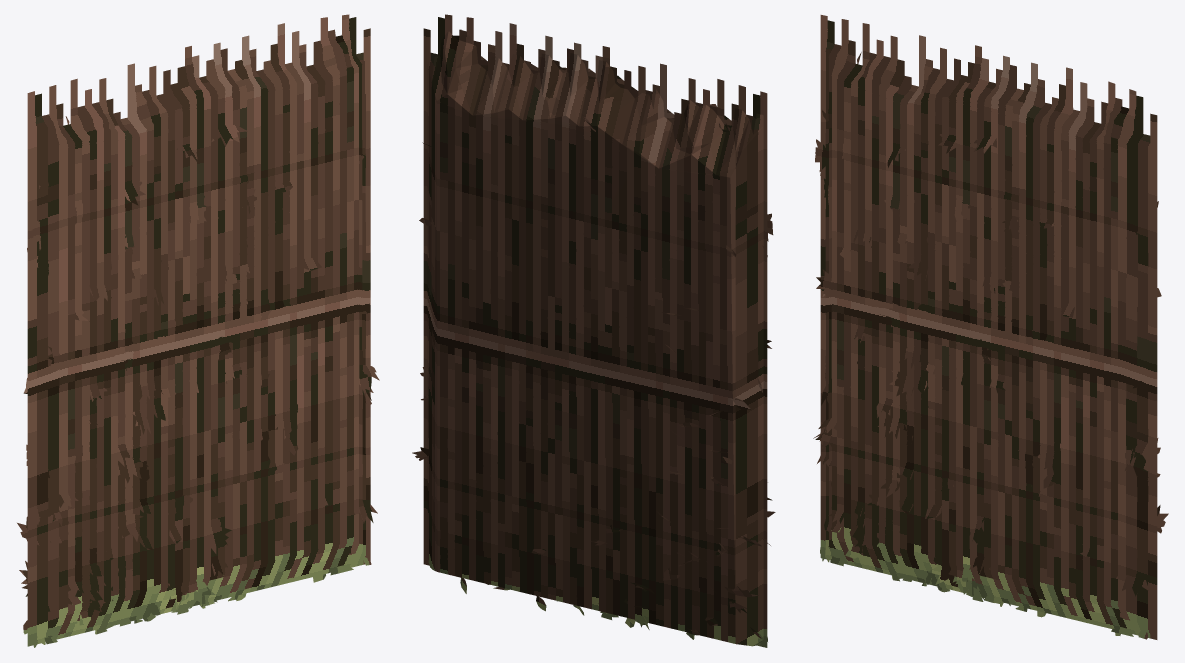
File: fence_501_cut_high.glb
3 renders of one model, left to right at view 1: azimuth 30°, elevation 25°; view 2: azimuth 150°, elevation 25°; view 3: azimuth 330°, elevation 25°, orthographic. The views are drawn at different scales.
Parts seen in each view (by area): view 1: fence_501_cut_lod0; view 2: fence_501_cut_lod0; view 3: fence_501_cut_lod0.
Part boxes in pixels (left/top/right/bottom): fence_501_cut_lod0: left=17, top=14, right=379, bottom=647; fence_501_cut_lod0: left=412, top=14, right=775, bottom=647; fence_501_cut_lod0: left=813, top=15, right=1168, bottom=639.
Bounding box in the file's own units: 1.04 × 1.6 × 0.2241.
1 material, 1 textured.
